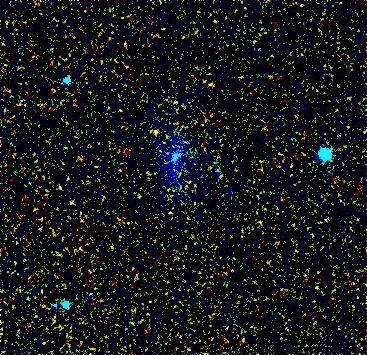star: (139, 120, 169, 150)
